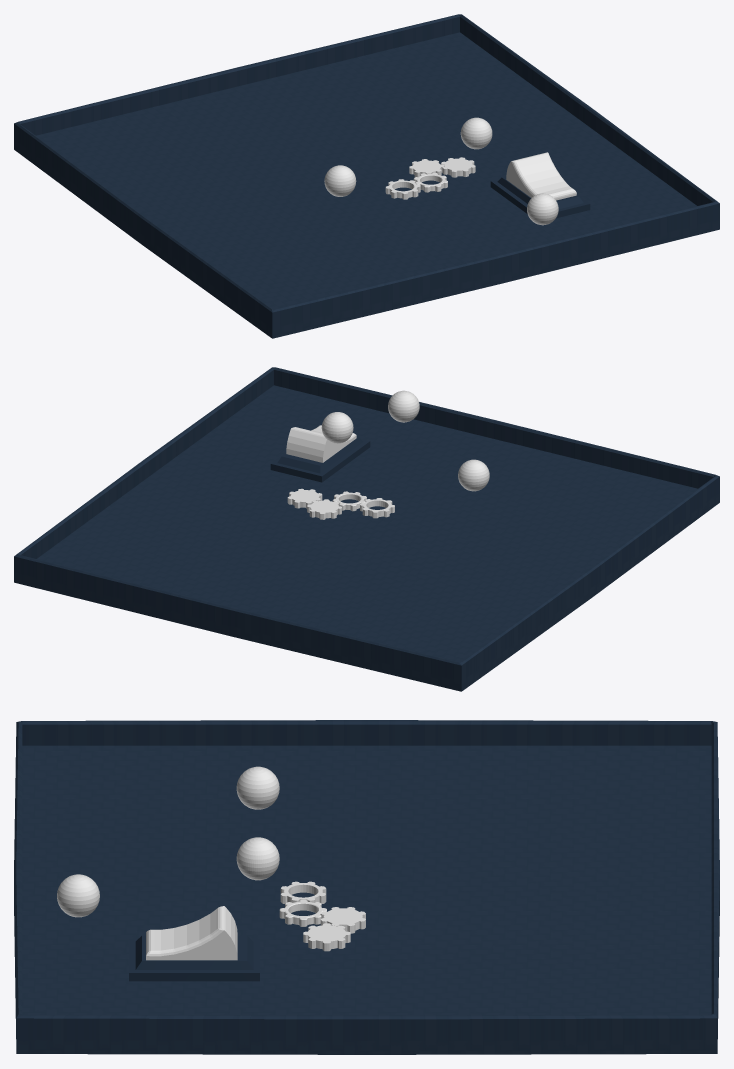
File: GearLow6.glb
3 views of the same model, one above another, from view 1: azimuth 30°, elevation 25°; view 2: azimuth 150°, elevation 25°; view 3: azimuth 270°, elevation 25° (orthographic). The views are drawn at different scales.
Visible parts, largest first — view 1: Plane, Button, Sphere1, Sphere3, Sphere2, Gear4, Gear2; view 2: Plane, Button, Sphere3, Sphere2, Sphere1, Gear3, Gear2; view 3: Plane, Button, Sphere2, Sphere3, Sphere1, Gear4, Gear1, Gear3, Gear2.
Part boxes in pixels (x1,y1,x2,y2): Plane: [14, 14, 719, 338]; Button: [506, 152, 576, 200]; Sphere1: [460, 117, 492, 149]; Sphere3: [324, 165, 356, 196]; Sphere2: [527, 193, 558, 225]; Gear4: [441, 157, 475, 177]; Gear2: [385, 179, 420, 199]; Plane: [14, 367, 719, 691]; Button: [286, 425, 356, 462]; Sphere3: [458, 459, 489, 491]; Sphere2: [388, 390, 419, 422]; Sphere1: [321, 412, 353, 443]; Gear3: [307, 499, 341, 519]; Gear2: [360, 498, 394, 518]; Plane: [14, 720, 719, 1054]; Button: [146, 906, 237, 960]; Sphere2: [57, 874, 99, 917]; Sphere3: [236, 766, 279, 809]; Sphere1: [236, 837, 279, 880]; Gear4: [303, 923, 350, 951]; Gear1: [279, 899, 326, 926]; Gear3: [320, 907, 365, 933]; Gear2: [280, 881, 326, 903].
Bounding box in the file's own units: 32.72 × 6.28 × 32.72.
Materials: 1 (1 with a texture image).
